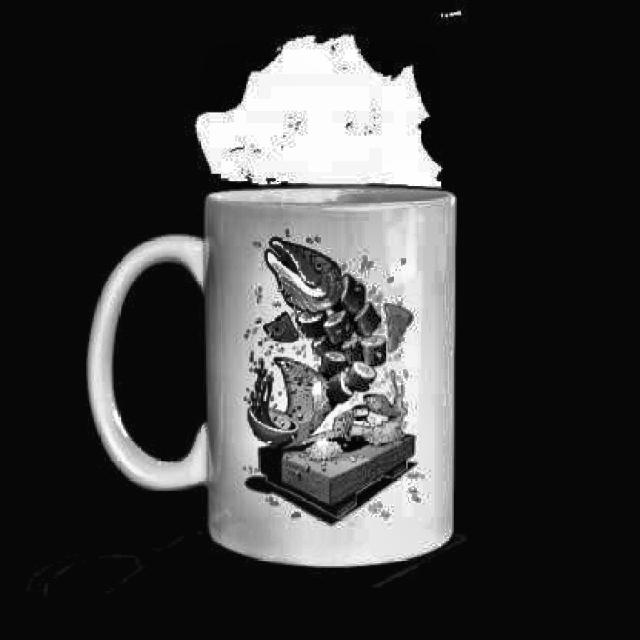Mug: (82, 180, 463, 572)
